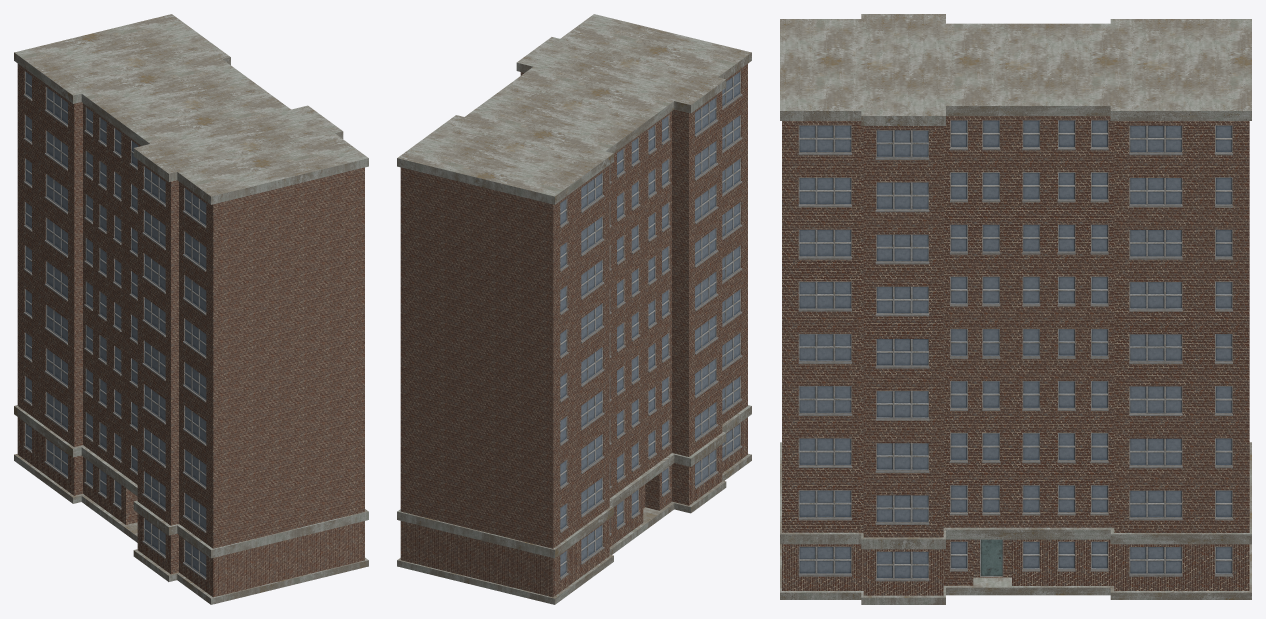
The model's file is brick_apartment_modular_building_test.glb.
The picture shows the model from 3 angles, left to right: view 1: azimuth 30°, elevation 25°; view 2: azimuth 150°, elevation 25°; view 3: azimuth 270°, elevation 25°; orthographic projection. The views are drawn at different scales.
Parts seen in each view (by area): view 1: Object001_Material #26_0, Object001_Material #27_0, Object001_Material #25_0; view 2: Object001_Material #26_0, Object001_Material #27_0, Object001_Material #25_0; view 3: Object001_Material #26_0, Object001_Material #25_0, Object001_Material #27_0.
Part boxes in pixels (<box>): Object001_Material #26_0: <box>17,64,364,597</box>; Object001_Material #27_0: <box>14,14,368,604</box>; Object001_Material #25_0: <box>23,71,206,579</box>; Object001_Material #26_0: <box>400,64,747,597</box>; Object001_Material #27_0: <box>397,14,751,604</box>; Object001_Material #25_0: <box>560,71,742,579</box>; Object001_Material #26_0: <box>782,116,1249,595</box>; Object001_Material #25_0: <box>798,120,1232,581</box>; Object001_Material #27_0: <box>780,14,1251,604</box>.
Size of the model in its own units: 1086 by 2429 by 2124.
3 materials, 3 textured.
